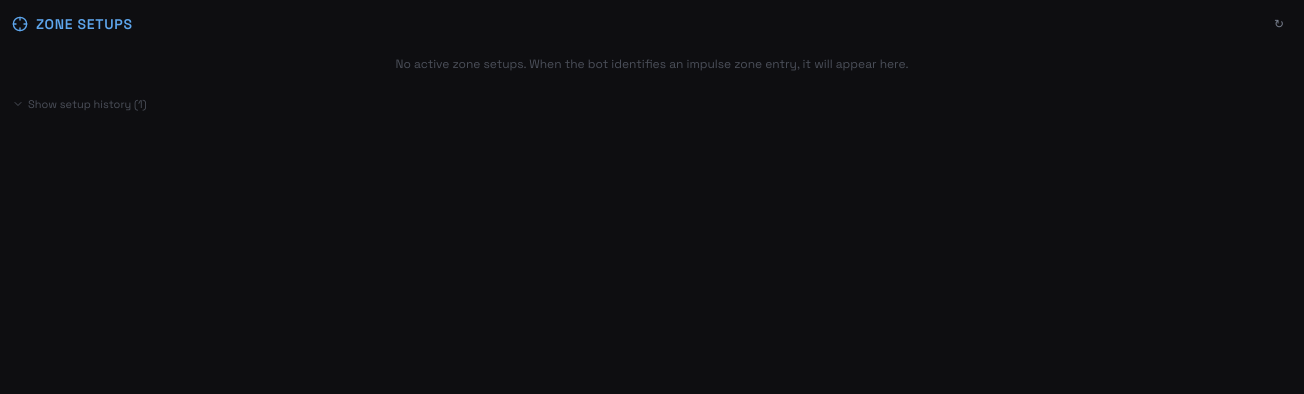
Test: legacy rows render without inventing anything › a filled order with no telemetry shows CONFIRMED and no tier, and does not crash
Click the button "Show setup history (1)": [79, 104] box [12,96,147,112]
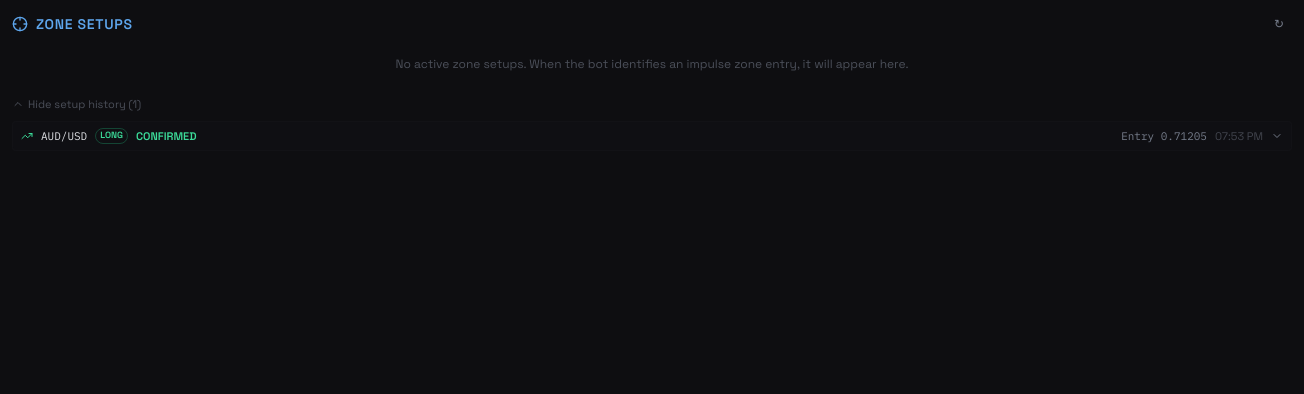
Expected: the text "CONFIRMED" is shown, [136,128,196,144]
Click the button "AUD/USD LONG CONFIRMED Entry 0.71205 07:53 PM": [64, 136] box [13,122,1291,150]
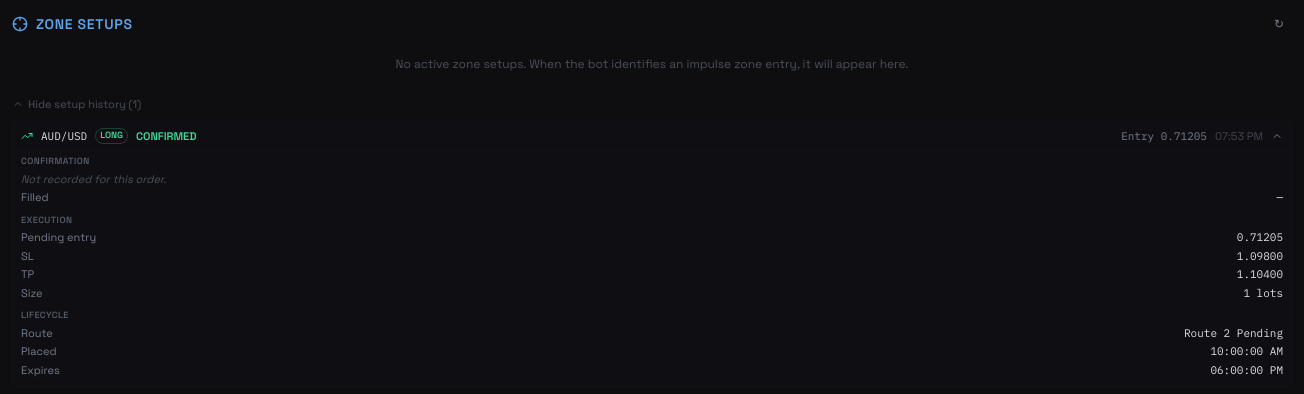
Expected: the text "Not recorded for this order." is shown, [21,172,166,186]
